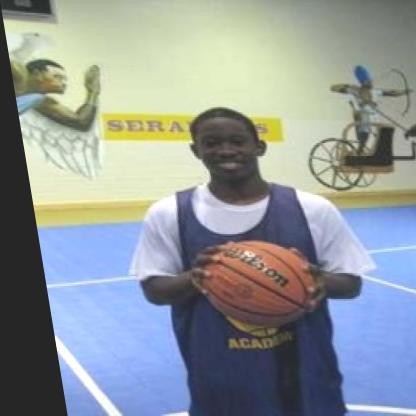basketball: (192, 239, 304, 319)
